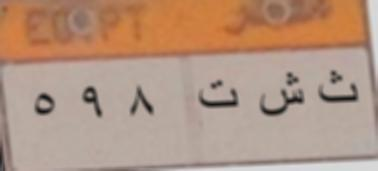5: (25, 84, 66, 133)
8: (126, 79, 157, 124)
9: (76, 79, 106, 131)
sheen: (254, 65, 308, 123)
taa: (194, 72, 241, 113)
thaa: (315, 66, 362, 109)
